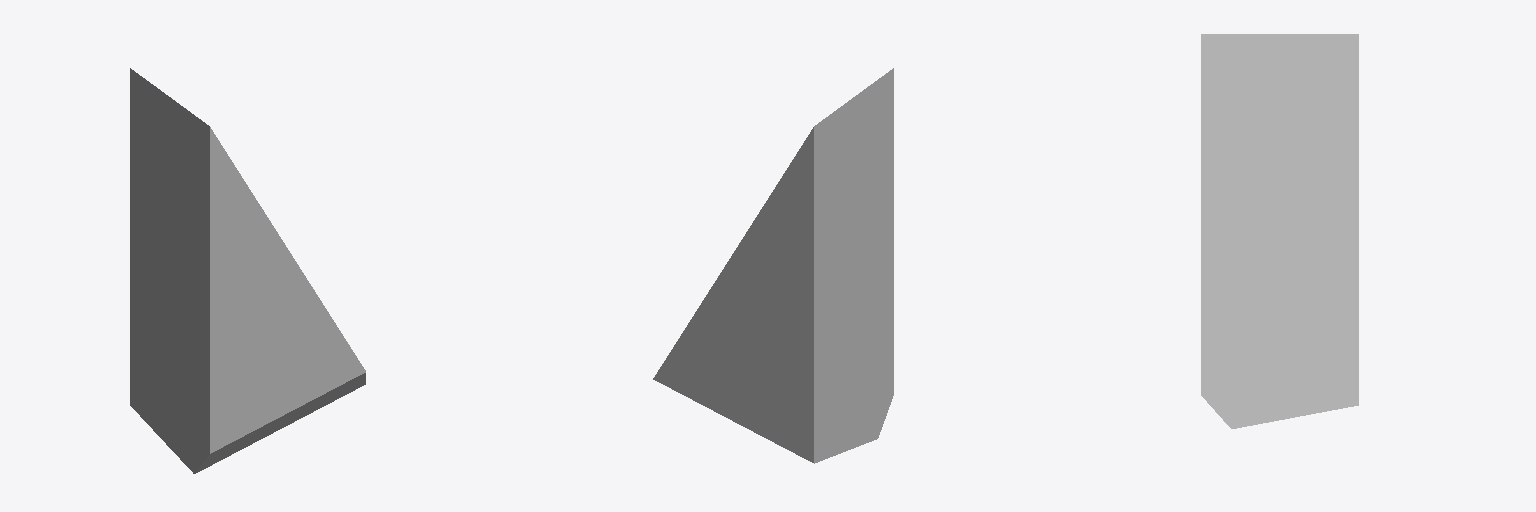
Rendered from target_pieces_C.obj.
3 renders of one model, left to right at view 1: azimuth 30°, elevation 25°; view 2: azimuth 150°, elevation 25°; view 3: azimuth 270°, elevation 25°, orthographic.
Parts seen in each view (by area): view 1: target_pieces_C_Cylinder.267; view 2: target_pieces_C_Cylinder.267; view 3: target_pieces_C_Cylinder.267.
Boxes of the visible parts, x1=… form: target_pieces_C_Cylinder.267: x1=130, y1=68, x2=365, y2=473; target_pieces_C_Cylinder.267: x1=653, y1=68, x2=893, y2=463; target_pieces_C_Cylinder.267: x1=1201, y1=34, x2=1358, y2=428.
Size of the model in its own units: 0.25 by 0.5 by 0.2.